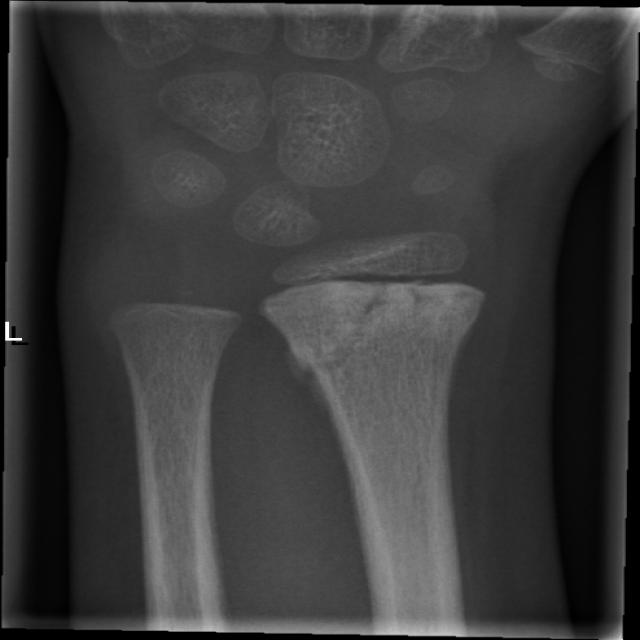radius fracture: (250, 298, 515, 410)
